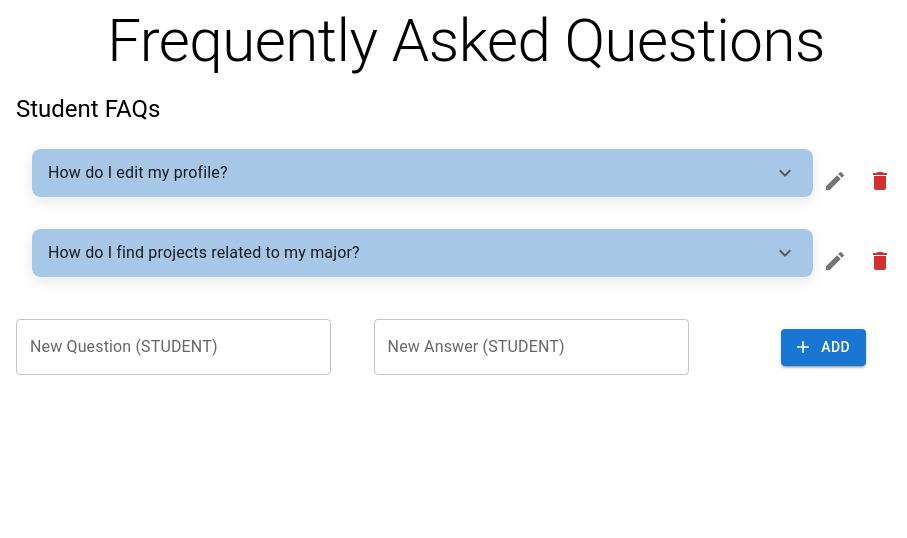
Test: FAQs › admin functions › editing › cancels editing correctly
Click the 1st button with test id "edit-btn".
click(835, 181)  # box [815, 149, 855, 213]
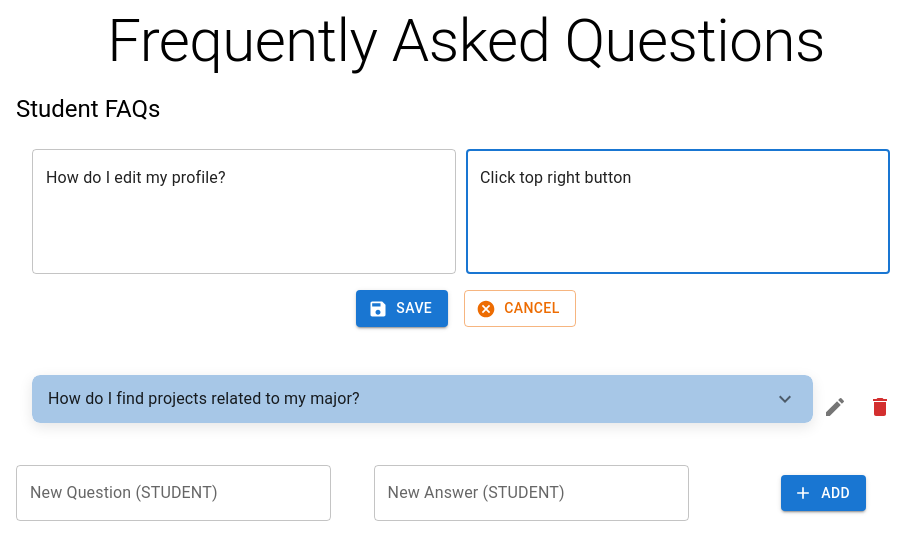
Click the button with test id "cancel-btn".
click(520, 309)  # box [464, 290, 576, 327]
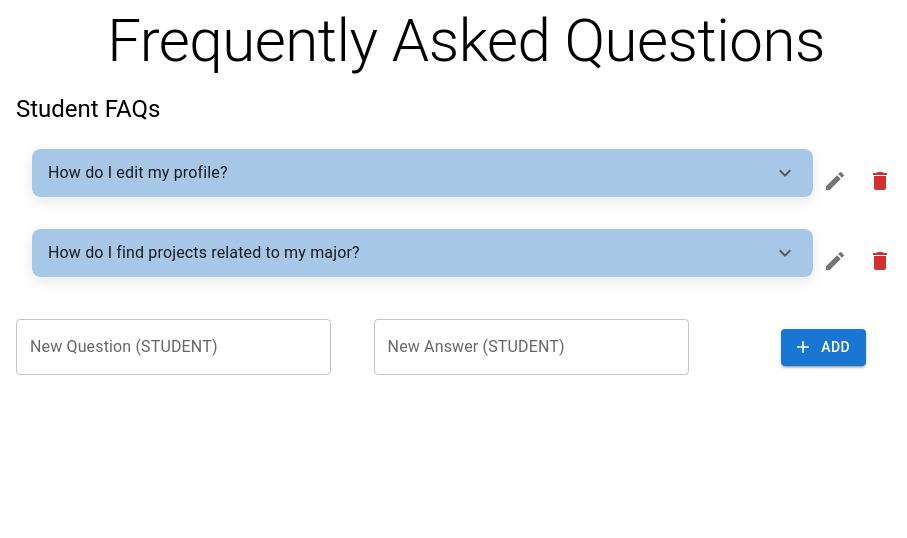
Expected: the button with test id "save-btn" is gone
